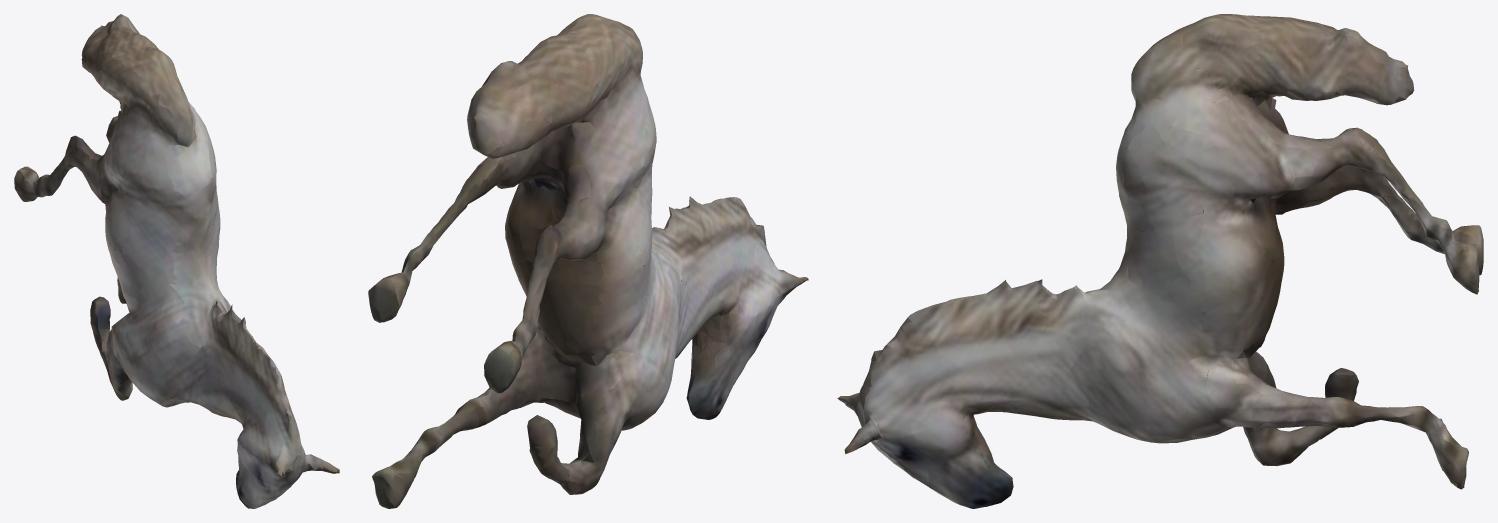
Rendered from horse.glb.
3 views of the same model, side by side, from view 1: azimuth 30°, elevation 25°; view 2: azimuth 150°, elevation 25°; view 3: azimuth 270°, elevation 25° (orthographic). The views are drawn at different scales.
Visible parts, largest first — view 1: world.043; view 2: world.043; view 3: world.043.
Part boxes in pixels (bbox=[...]): world.043: bbox=[14, 14, 339, 508]; world.043: bbox=[368, 14, 808, 508]; world.043: bbox=[837, 14, 1483, 508].
Size of the model in its own units: 0.2661 by 0.8181 by 0.9676.
1 material, 1 textured.
